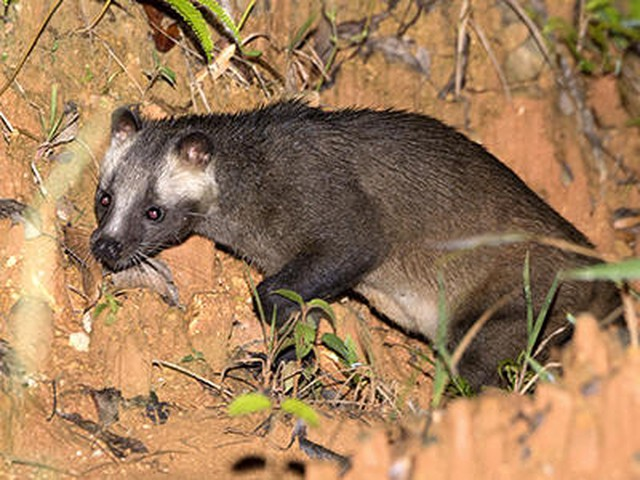civet: (87, 100, 623, 388)
